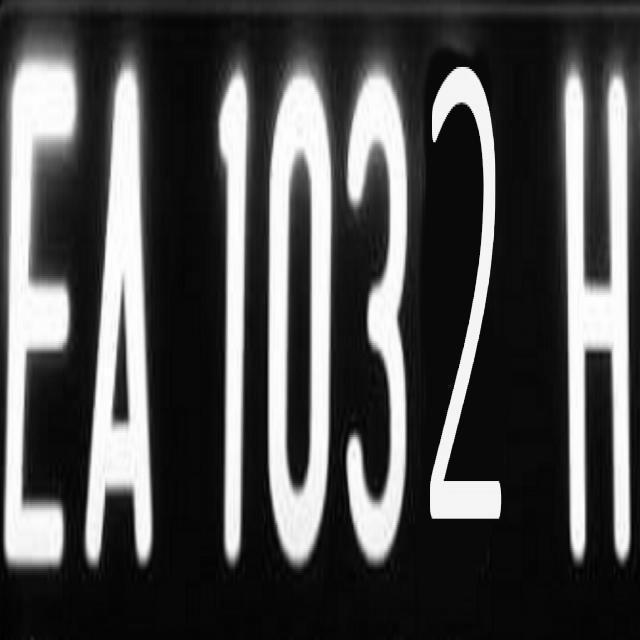0: (266, 72, 332, 581)
1: (206, 68, 260, 572)
2: (426, 55, 502, 542)
3: (343, 68, 415, 576)
A: (82, 62, 170, 564)
E: (0, 58, 74, 565)
H: (558, 60, 640, 574)
